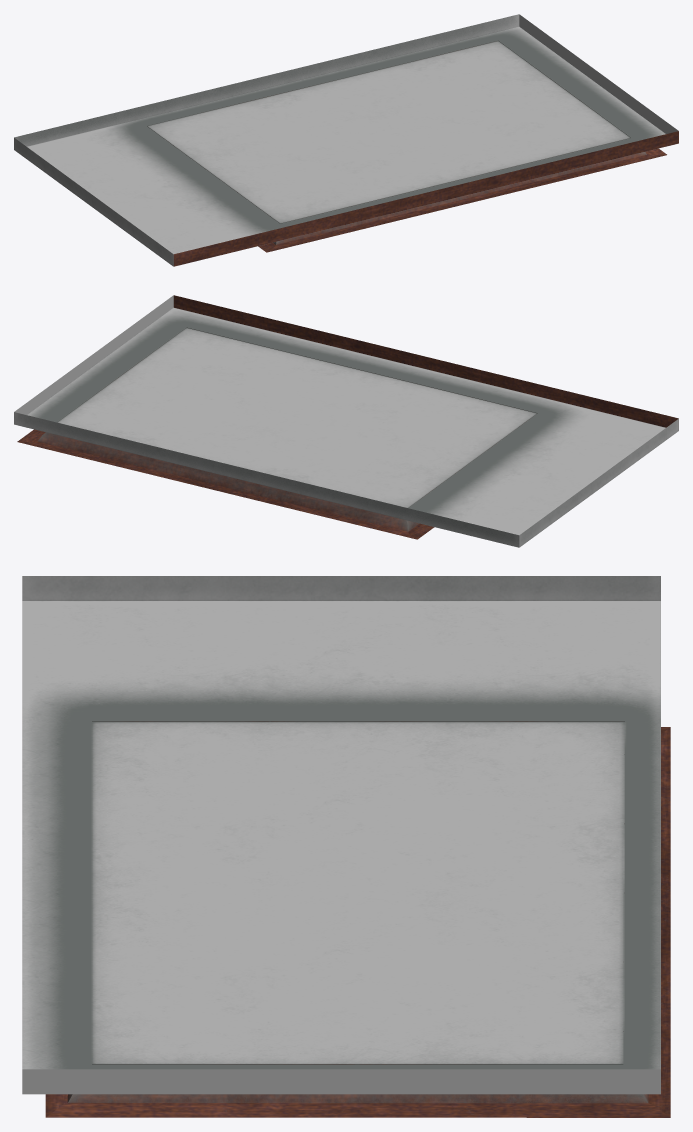
The model's file is SM_Office_Roof.fbx.
3 renders of one model, top to bottom at view 1: azimuth 30°, elevation 25°; view 2: azimuth 150°, elevation 25°; view 3: azimuth 270°, elevation 25°, orthographic. The views are drawn at different scales.
Visible parts, largest first — view 1: SM_Office_Roof; view 2: SM_Office_Roof; view 3: SM_Office_Roof.
Part boxes in pixels (x1=…): SM_Office_Roof: x1=14, y1=14, x2=678, y2=266; SM_Office_Roof: x1=14, y1=295, x2=678, y2=547; SM_Office_Roof: x1=22, y1=576, x2=670, y2=1117.
Size of the model in its own units: 176 by 98.01 by 8.97.
Materials: 1 (1 with a texture image).
